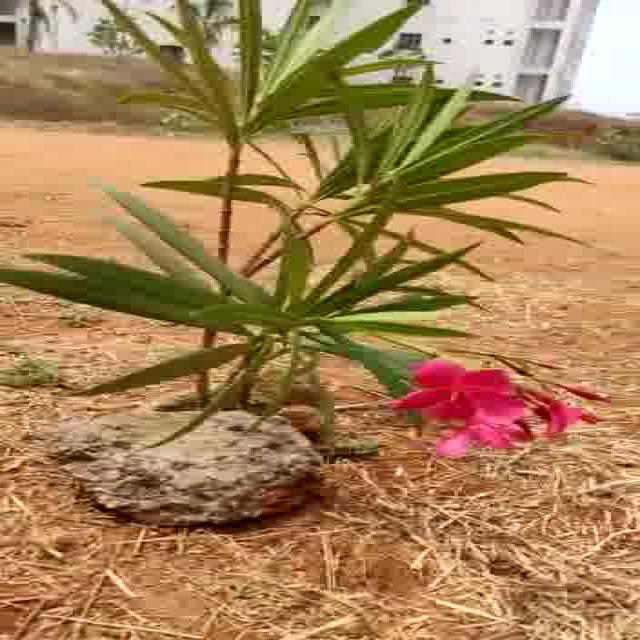OLEANDER: (13, 2, 640, 445)
